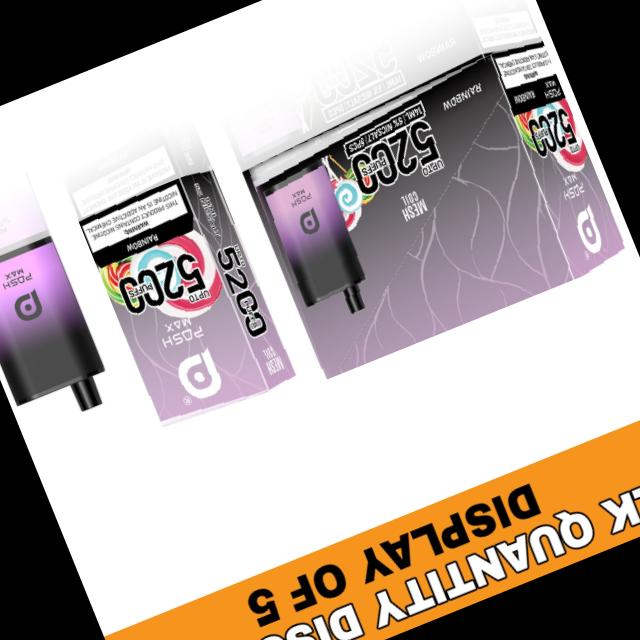Hazard: (232, 29, 628, 378), (76, 163, 298, 433)
